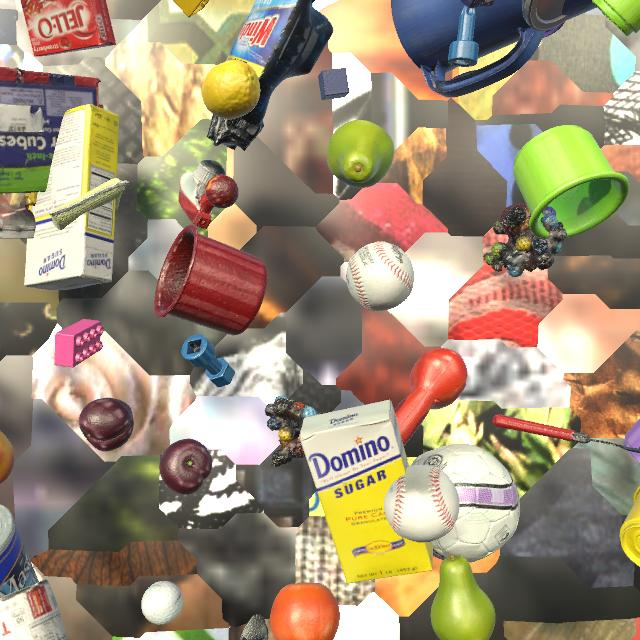ycb_002_master_chef_can: (0, 504, 39, 597)
ycb_004_sugar_box: (299, 400, 433, 583), (24, 104, 120, 290)
ycb_005_tomato_soup_can: (0, 579, 68, 640)
ycb_009_gelatin_box: (20, 0, 116, 57)
ycb_014_lemon: (201, 60, 260, 119)
ycb_015_peach: (0, 431, 15, 484)
ycb_016_pear: (431, 554, 496, 640), (326, 120, 394, 188)
ycb_017_orange: (270, 582, 340, 640)
ycb_018_plum: (159, 439, 213, 495), (79, 398, 134, 452)
